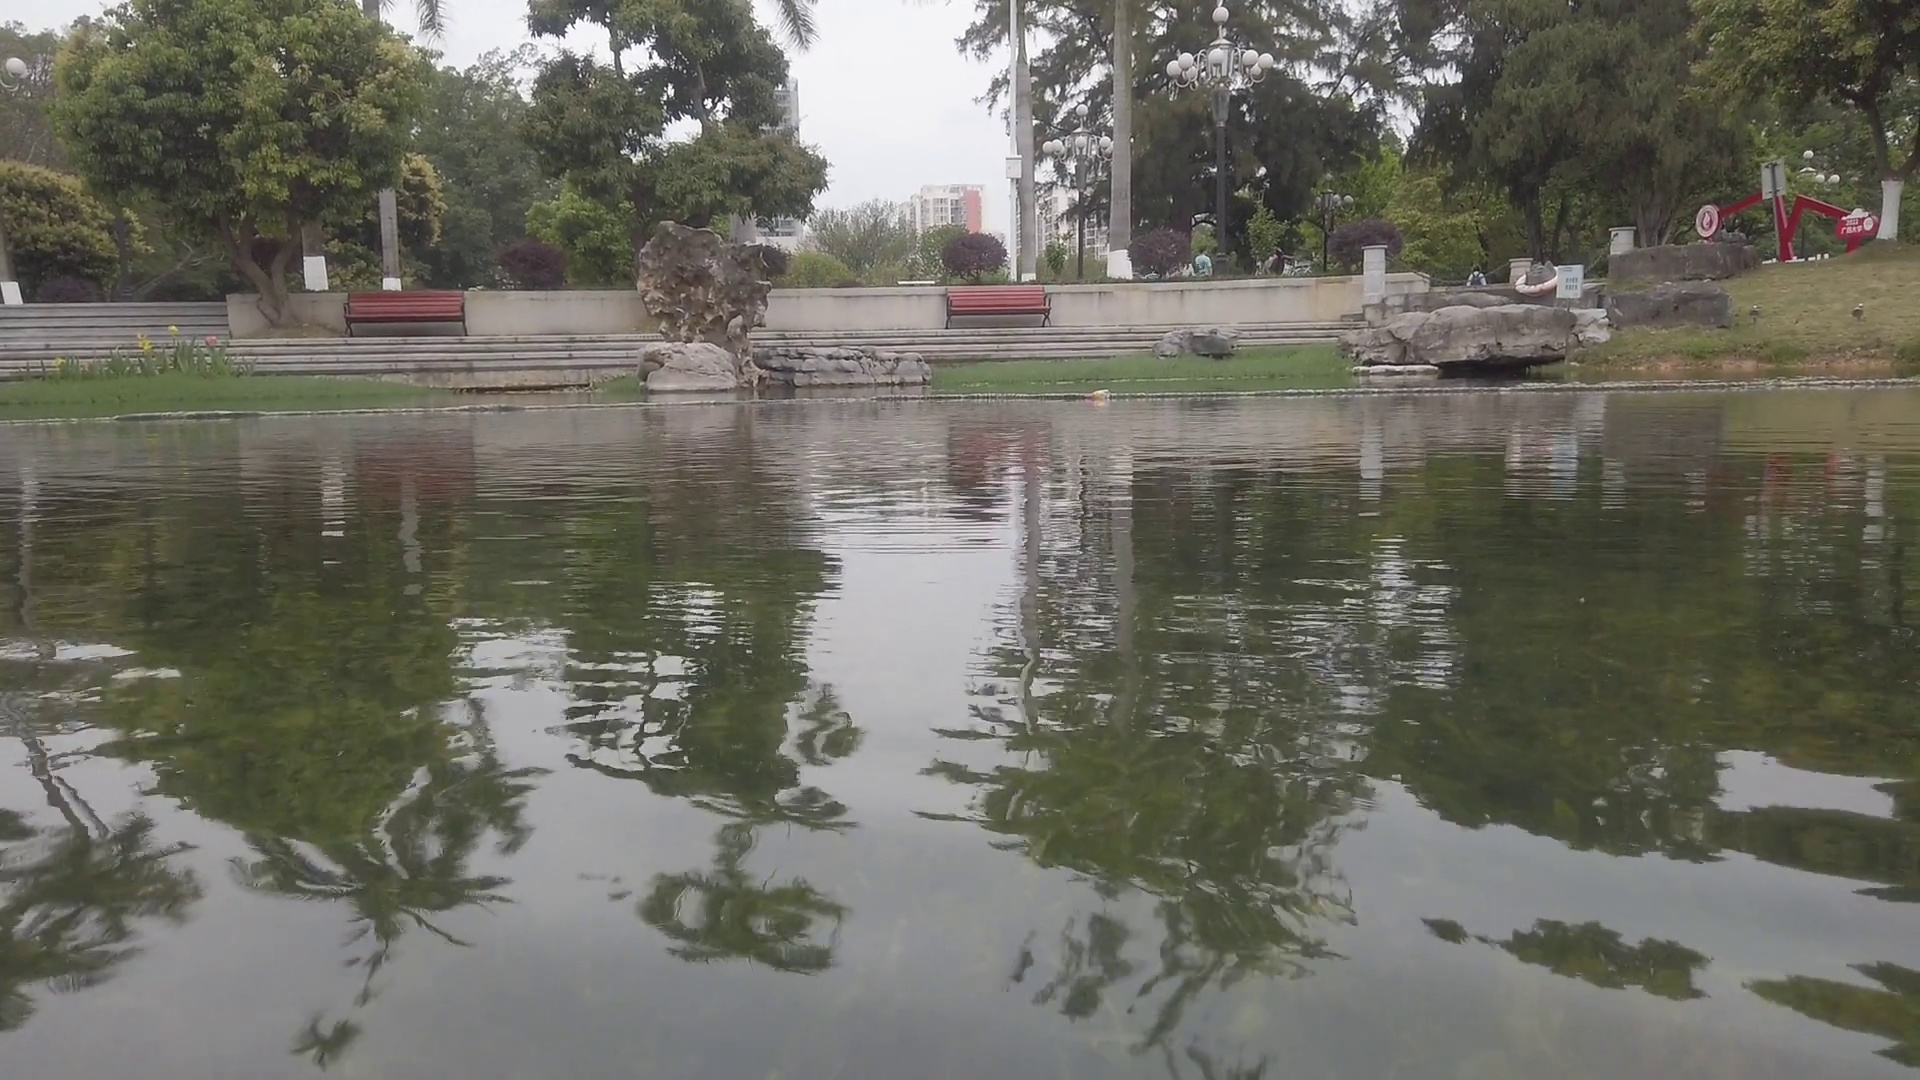bottle: (1083, 389, 1112, 400)
